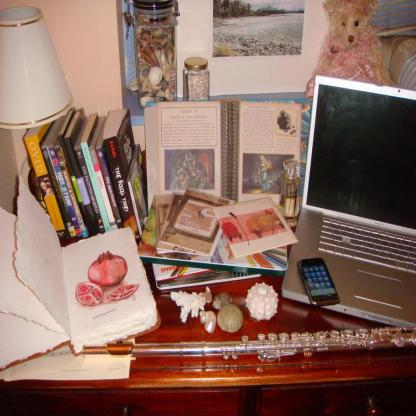board: (282, 75, 416, 329), (133, 0, 179, 109), (182, 53, 212, 102)
